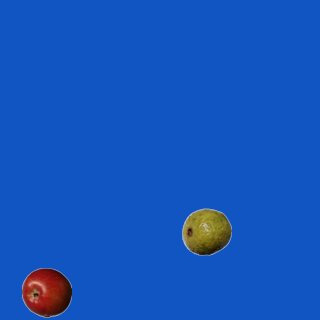Apple Braeburn: (21, 267, 71, 317)
Guava: (181, 206, 231, 256)
